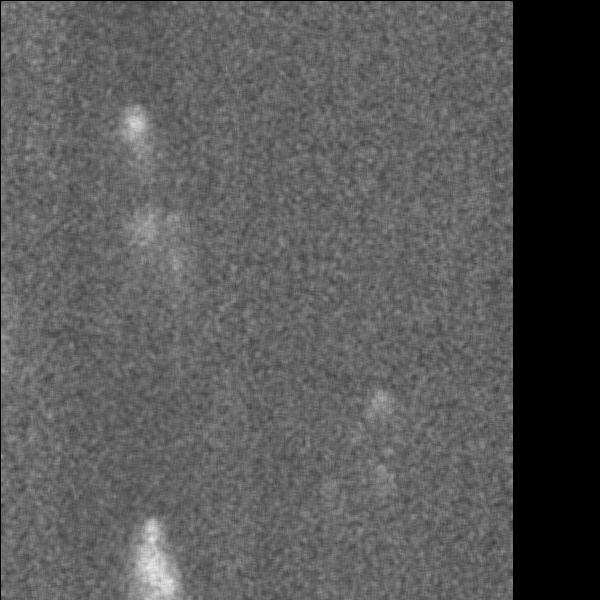spark: (118, 535, 194, 589), (118, 100, 153, 175), (119, 205, 156, 263), (369, 385, 394, 436)
